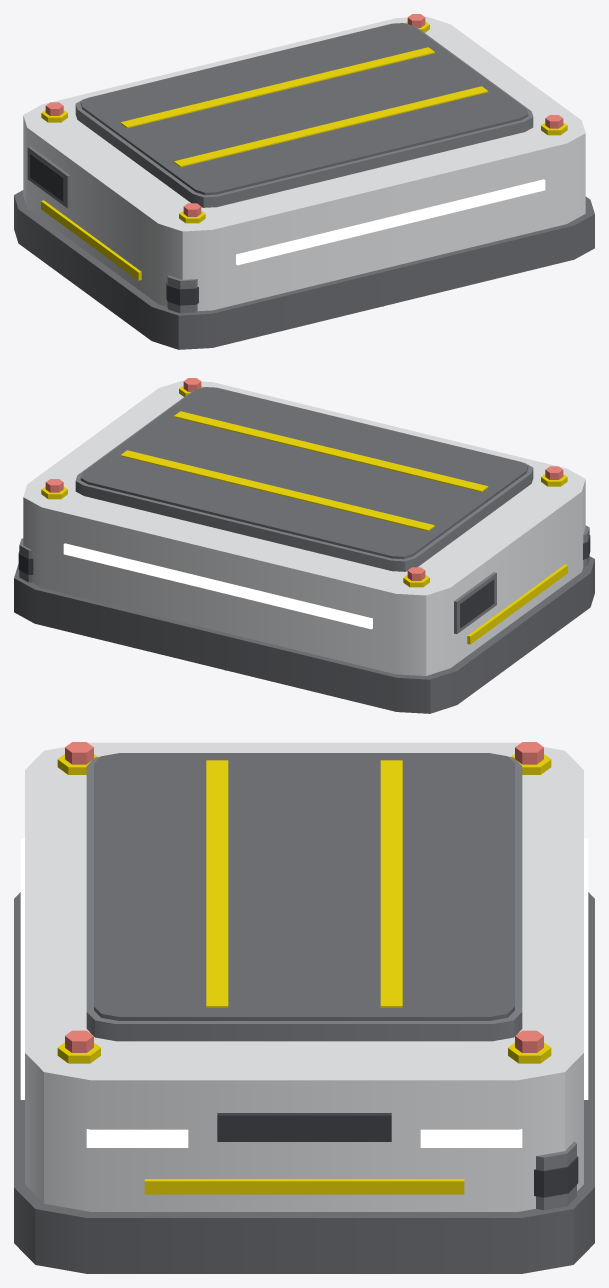
Rendered from agv.glb.
3 views of the same model, one above another, from view 1: azimuth 30°, elevation 25°; view 2: azimuth 150°, elevation 25°; view 3: azimuth 270°, elevation 25° (orthographic). The views are drawn at different scales.
Visible parts, largest first — view 1: chassi, mesa, luz; view 2: chassi, mesa, luz; view 3: chassi, mesa, luz.
Boxes of the visible parts, x1,y1,x2,y2 form: chassi: (14,14,594,349); mesa: (75,23,533,207); luz: (236,179,545,265); chassi: (14,378,594,713); mesa: (75,387,533,571); luz: (63,543,372,629); chassi: (14,742,594,1273); mesa: (86,753,522,1041); luz: (20,838,588,1147).
Bounding box in the file's own units: 1.14 × 0.353 × 0.8.
